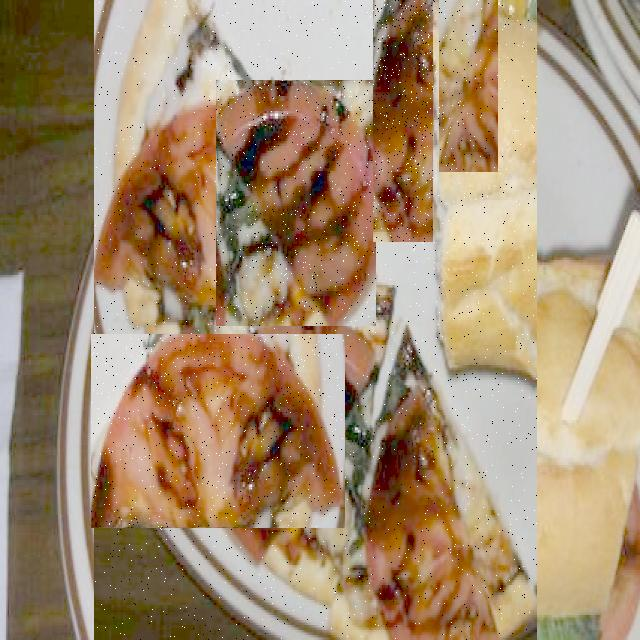Pizza: (94, 0, 537, 640)
Tomato: (91, 334, 345, 528), (216, 80, 376, 326), (373, 0, 433, 242), (439, 0, 498, 172)
